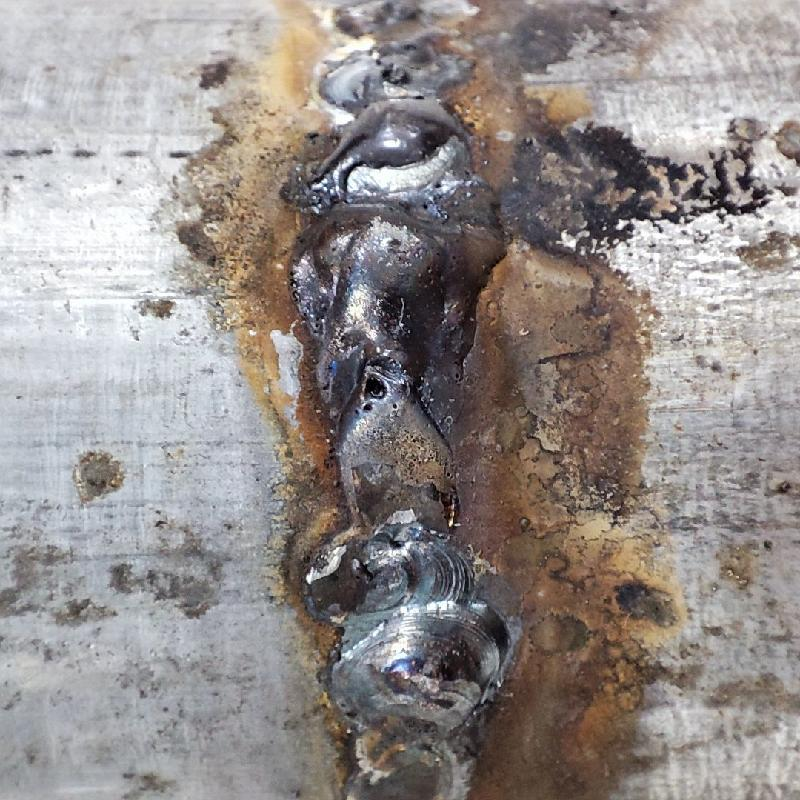Not_fully_soldered: (310, 367, 481, 601), (312, 1, 495, 104)
Surface_pores: (335, 355, 403, 420)
Weld: (298, 100, 508, 389)
wrong_size: (323, 608, 516, 792)
